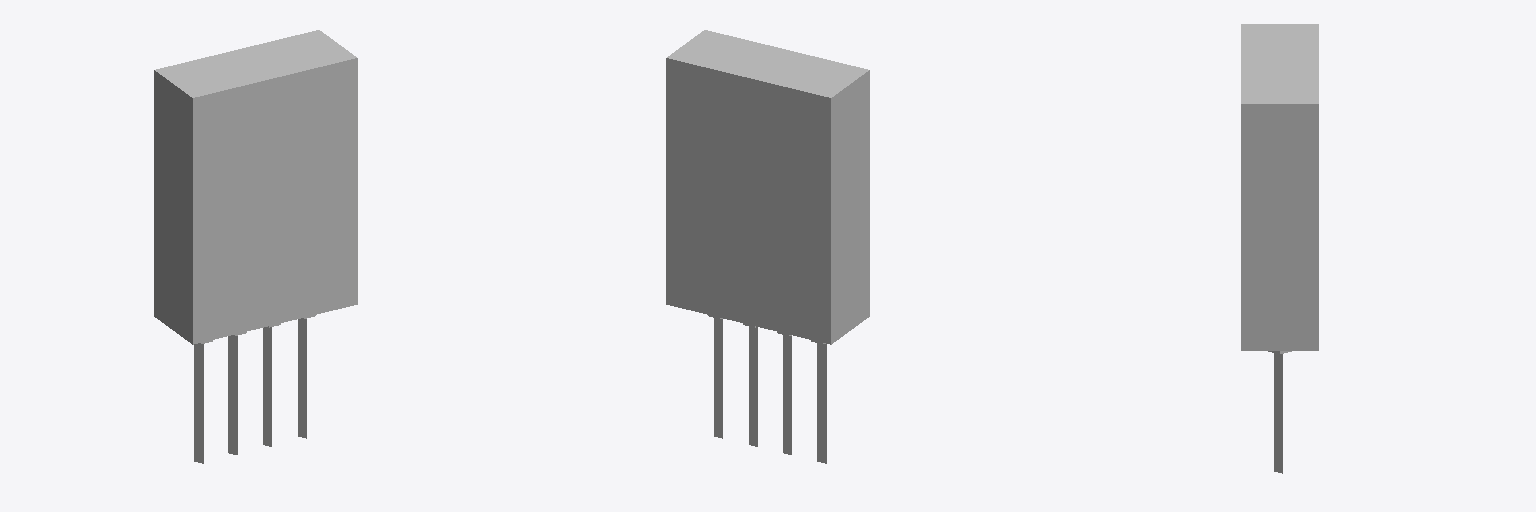
File: 流量计.obj
3 renders of one model, left to right at view 1: azimuth 30°, elevation 25°; view 2: azimuth 150°, elevation 25°; view 3: azimuth 270°, elevation 25°, orthographic.
Parts seen in each view (by area): view 1: Box009, Cylinder156, Cylinder158, Cylinder160, Cylinder162; view 2: Box009, Cylinder156, Cylinder160, Cylinder162, Cylinder158; view 3: Box009, Cylinder162.
Part boxes in pixels (x1,y1,x2,y2): Box009: (154, 30, 357, 344); Cylinder156: (194, 344, 203, 463); Cylinder158: (228, 335, 237, 454); Cylinder160: (263, 327, 271, 446); Cylinder162: (298, 319, 306, 438); Box009: (666, 30, 869, 344); Cylinder156: (817, 343, 826, 463); Cylinder160: (749, 326, 757, 446); Cylinder162: (714, 318, 722, 438); Cylinder158: (783, 335, 791, 454); Box009: (1241, 24, 1318, 350); Cylinder162: (1274, 353, 1282, 473).
Bounding box in the file's own units: 27.69 × 61.61 × 11.2.